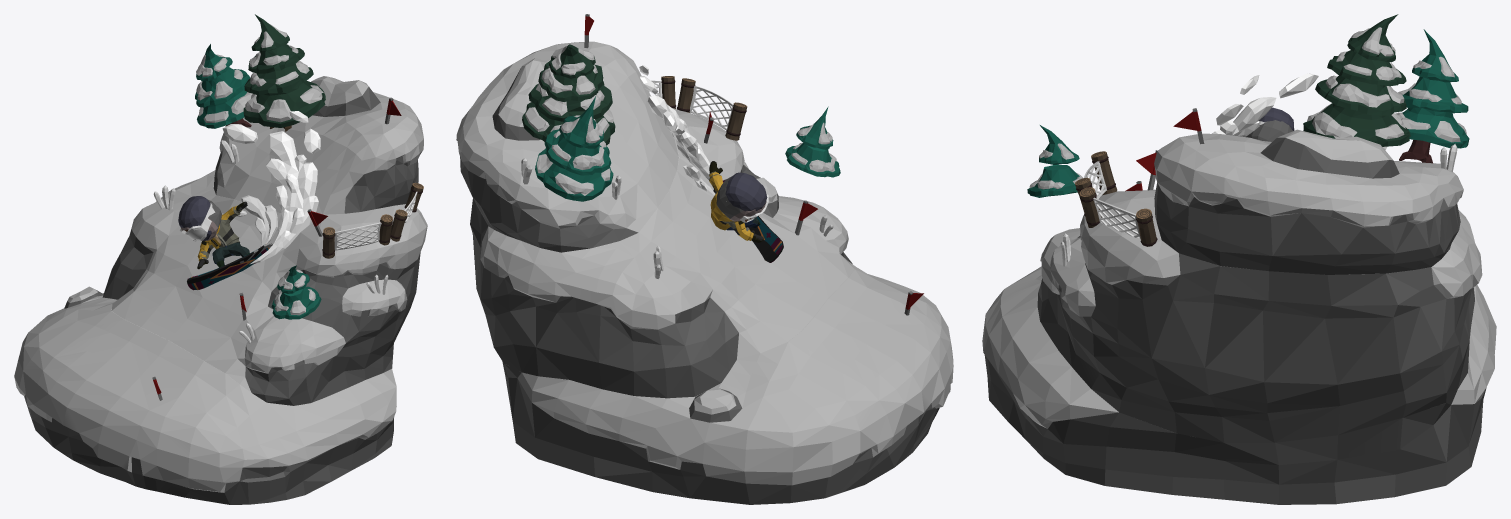
File: 0068_snowBoarding.fbx
3 views of the same model, side by side, from view 1: azimuth 30°, elevation 25°; view 2: azimuth 150°, elevation 25°; view 3: azimuth 270°, elevation 25° (orthographic). The views are drawn at different scales.
Visible parts, largest first — view 1: SnowMountain_bottom, SnowMountain_mid, SnowMountain_top, snow1, part2_2, part2 (×2), part1_2, part1 (×2), part3, snow2, boarder_C_Head, net2 (+3 smaller); view 2: SnowMountain_bottom, SnowMountain_mid, SnowMountain_top, part2 (×2), part2_2, part1_2, part1 (×2), part3, snow1, boarder_C_Head, net2, boarder_Head (+1 smaller); view 3: SnowMountain_mid, SnowMountain_bottom, SnowMountain_top, part2_2, part1_2, part2 (×2), part3, snow1, part1 (×2), net, boarder_Head, log.
Part boxes in pixels (x1=…): SnowMountain_bottom: x1=14, y1=286, x2=396, y2=504; SnowMountain_mid: x1=102, y1=170, x2=427, y2=405; SnowMountain_top: x1=213, y1=76, x2=423, y2=214; snow1: x1=222, y1=111, x2=320, y2=264; part2_2: x1=243, y1=60, x2=325, y2=131; part2 (×2): x1=195, y1=67, x2=321, y2=319; part1_2: x1=248, y1=14, x2=304, y2=73; part1 (×2): x1=196, y1=44, x2=309, y2=293; part3: x1=197, y1=89, x2=252, y2=128; snow2: x1=237, y1=195, x2=277, y2=246; boarder_C_Head: x1=178, y1=196, x2=211, y2=241; net2: x1=334, y1=222, x2=381, y2=250; SnowMountain_bottom: x1=502, y1=268, x2=953, y2=504; SnowMountain_mid: x1=470, y1=108, x2=857, y2=398; SnowMountain_top: x1=456, y1=41, x2=678, y2=252; part2 (×2): x1=544, y1=128, x2=840, y2=177; part2_2: x1=522, y1=81, x2=615, y2=145; part1_2: x1=538, y1=44, x2=603, y2=101; part1 (×2): x1=559, y1=96, x2=833, y2=149; part3: x1=535, y1=148, x2=613, y2=201; snow1: x1=639, y1=65, x2=710, y2=180; boarder_C_Head: x1=725, y1=172, x2=767, y2=211; net2: x1=689, y1=86, x2=733, y2=130; boarder_Head: x1=716, y1=177, x2=766, y2=222; SnowMountain_mid: x1=1037, y1=189, x2=1482, y2=442; SnowMountain_bottom: x1=982, y1=266, x2=1496, y2=504; SnowMountain_top: x1=1154, y1=129, x2=1463, y2=274; part2_2: x1=1303, y1=75, x2=1410, y2=146; part1_2: x1=1327, y1=14, x2=1406, y2=86; part2 (×2): x1=1027, y1=77, x2=1468, y2=197; part3: x1=1395, y1=107, x2=1469, y2=163; snow1: x1=1212, y1=73, x2=1318, y2=136; part1 (×2): x1=1039, y1=29, x2=1458, y2=164; net: x1=1093, y1=197, x2=1140, y2=238; boarder_Head: x1=1246, y1=120, x2=1292, y2=141; log: x1=1136, y1=208, x2=1157, y2=246.
Size of the model in its own units: 13.92 by 12.56 by 12.91.
